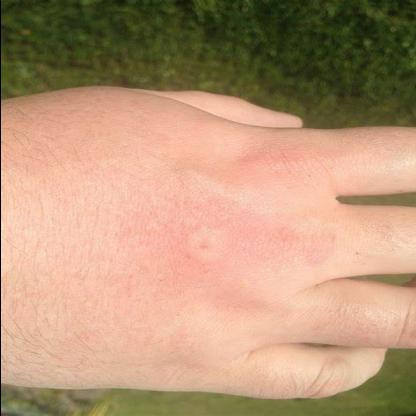Wasp: (164, 208, 249, 285)
